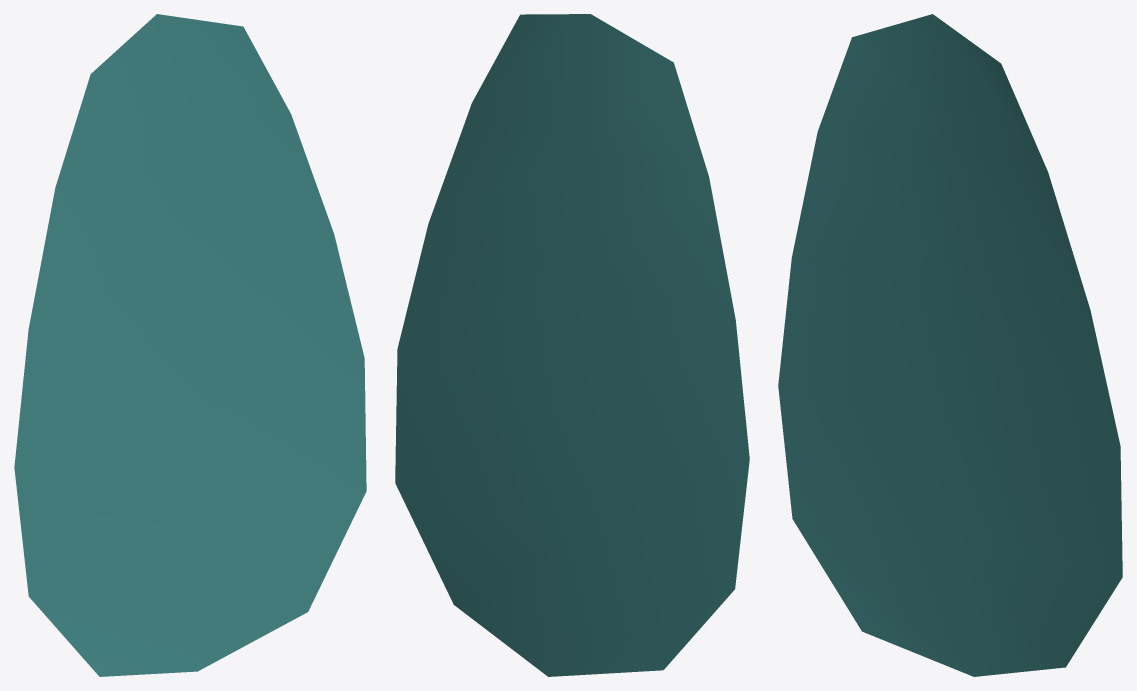
File: budgie_feather_flight_tertiary_045.obj
3 views of the same model, side by side, from view 1: azimuth 30°, elevation 25°; view 2: azimuth 150°, elevation 25°; view 3: azimuth 330°, elevation 25° (orthographic). The views are drawn at different scales.
Visible parts, largest first — view 1: feather_flight_tertiary_045; view 2: feather_flight_tertiary_045; view 3: feather_flight_tertiary_045.
Boxes of the visible parts, left/top/right/bottom form: feather_flight_tertiary_045: left=14, top=14, right=366, bottom=676; feather_flight_tertiary_045: left=395, top=14, right=749, bottom=676; feather_flight_tertiary_045: left=778, top=14, right=1122, bottom=676.
Bounding box in the file's own units: 0.00798 × 0.0145 × 0.00035.
